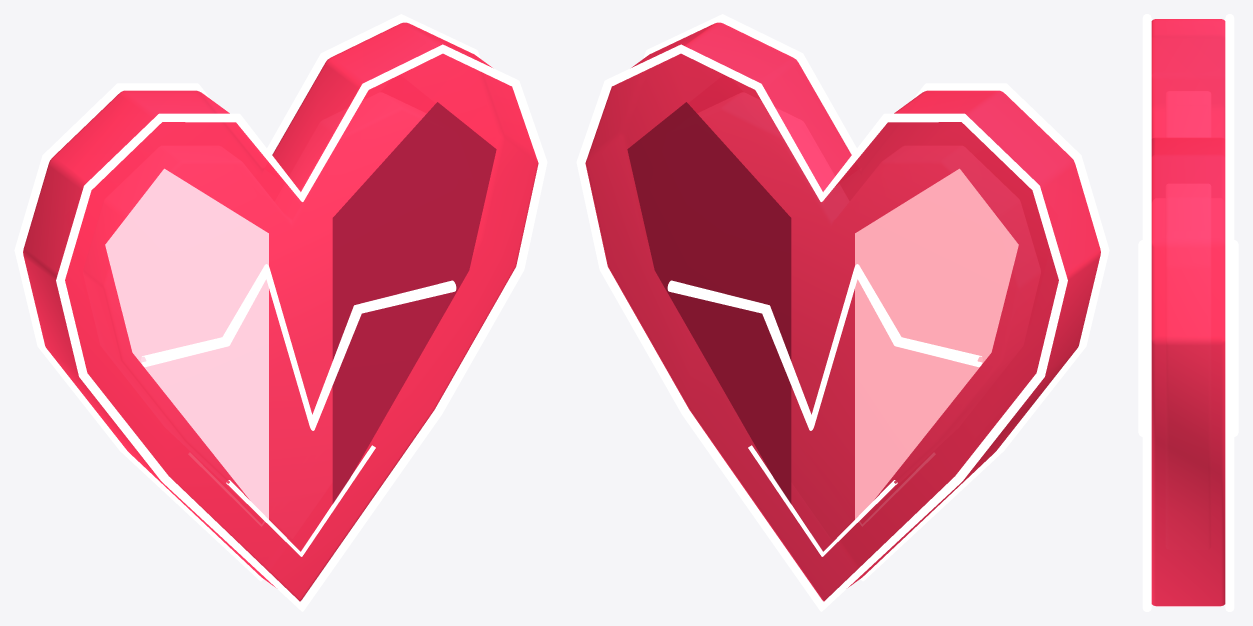
The model's file is heal-pickup-crystal-runes-lod0.glb.
The picture shows the model from 3 angles, left to right: view 1: azimuth 30°, elevation 25°; view 2: azimuth 150°, elevation 25°; view 3: azimuth 270°, elevation 25°; orthographic projection.
Visible parts, largest first — view 1: heal-body, heal-inset, heart-facet1-front, heart-facet-1-front, heal-outer-trace-front, heal-outer-trace-rear, heartbeat-front, heart-tip-front; view 2: heal-body, heal-inset, heart-facet1-rear, heart-facet-1-rear, heal-outer-trace-rear, heal-outer-trace-front, heartbeat-rear, heart-tip-rear; view 3: heal-body, heal-inset, heal-outer-trace-front, heal-outer-trace-rear, heartbeat-front, heartbeat-rear.
Boxes of the visible parts, left/top/right/bottom form: heal-body: left=23, top=22, right=538, bottom=601; heal-inset: left=83, top=93, right=425, bottom=539; heart-facet1-front: left=332, top=102, right=496, bottom=503; heart-facet-1-front: left=105, top=168, right=268, bottom=519; heal-outer-trace-front: left=56, top=44, right=547, bottom=611; heal-outer-trace-rear: left=14, top=14, right=480, bottom=581; heartbeat-front: left=141, top=264, right=456, bottom=430; heart-tip-front: left=226, top=445, right=375, bottom=556; heal-body: left=585, top=22, right=1100, bottom=601; heal-inset: left=698, top=93, right=1040, bottom=539; heart-facet1-rear: left=627, top=102, right=791, bottom=503; heart-facet-1-rear: left=855, top=168, right=1018, bottom=519; heal-outer-trace-rear: left=576, top=44, right=1067, bottom=611; heal-outer-trace-front: left=643, top=14, right=1109, bottom=581; heartbeat-rear: left=667, top=264, right=982, bottom=430; heart-tip-rear: left=748, top=445, right=897, bottom=556; heal-body: left=1151, top=19, right=1225, bottom=606; heal-inset: left=1166, top=91, right=1210, bottom=548; heal-outer-trace-front: left=1142, top=14, right=1151, bottom=611; heal-outer-trace-rear: left=1225, top=14, right=1234, bottom=611; heartbeat-front: left=1138, top=240, right=1142, bottom=436; heartbeat-rear: left=1234, top=240, right=1238, bottom=436.
Bounding box in the file's own units: 0.8828 × 0.9155 × 0.1574.
